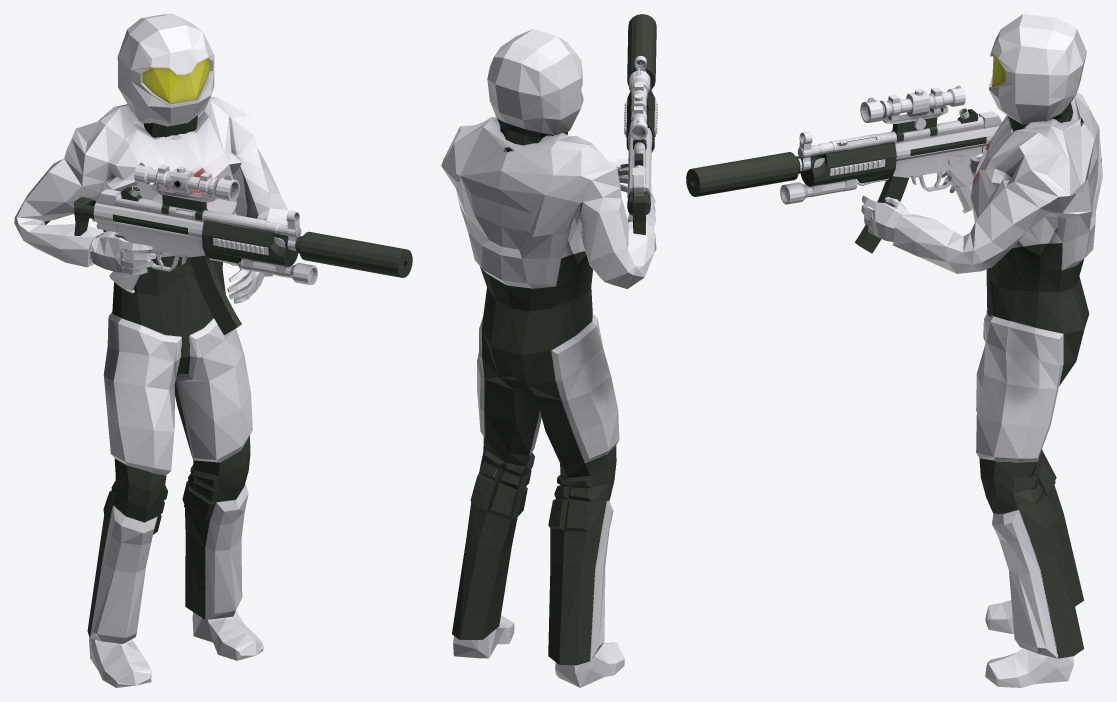
File: attack1.obj
3 views of the same model, side by side, from view 1: azimuth 30°, elevation 25°; view 2: azimuth 150°, elevation 25°; view 3: azimuth 270°, elevation 25° (orthographic).
Parts seen in each view (by area): view 1: Male001Skin_001, Object001; view 2: Male001Skin_001, Object001; view 3: Male001Skin_001, Object001.
Part boxes in pixels (box(x1,y1,x2,y2)): Male001Skin_001: box(14, 14, 288, 687); Object001: box(74, 162, 412, 335); Male001Skin_001: box(441, 29, 656, 687); Object001: box(624, 14, 657, 234); Male001Skin_001: box(861, 14, 1102, 687); Object001: box(686, 85, 1002, 253).
Bounding box in the file's own units: 676 × 1870 × 1122.
1 material, 1 textured.
